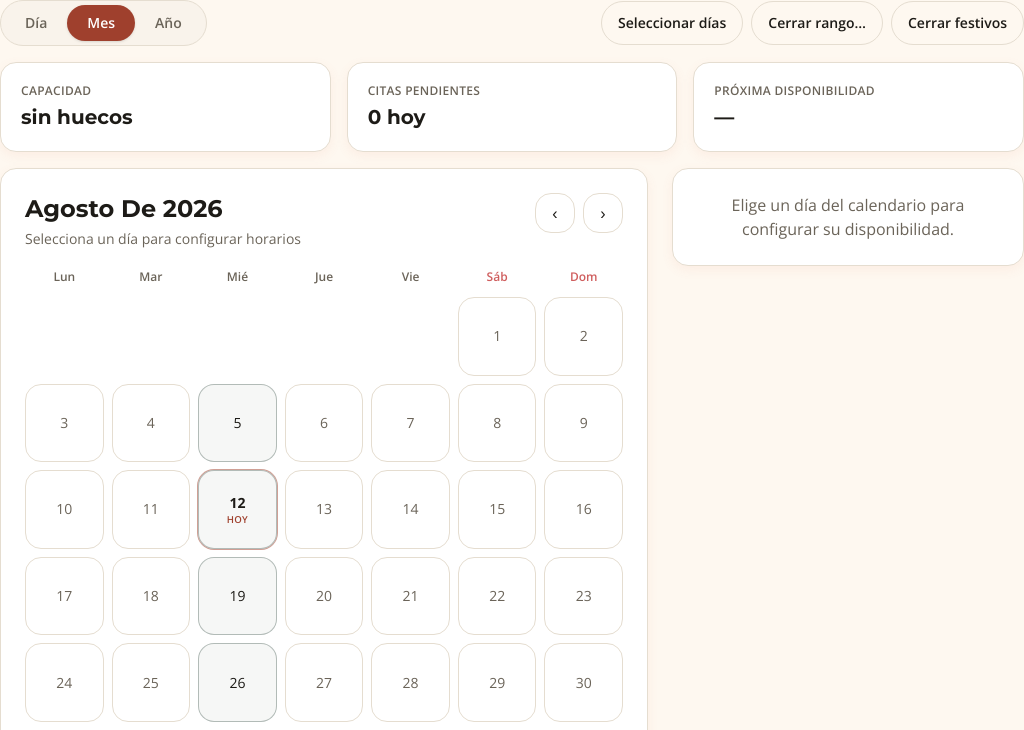
Test: AgendaCliente › al elegir un miércoles precarga el patrón semanal en el editor
This screenshot has width=1024, height=730.
Click the cell "12 Hoy" at (237,510), box [198,470,277,549]
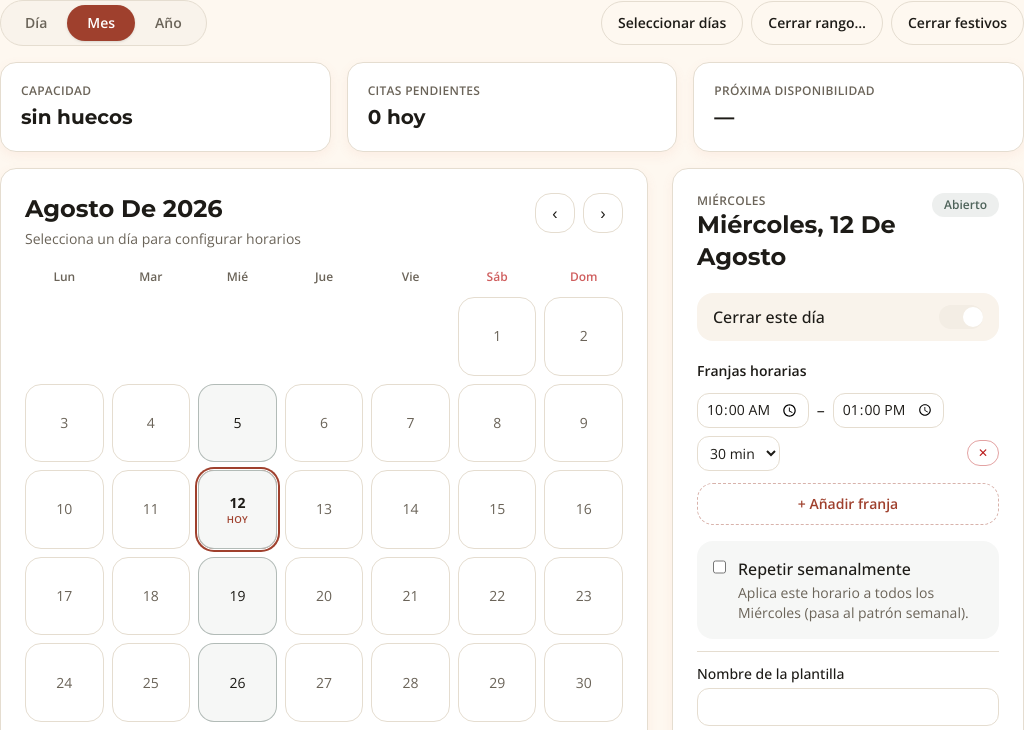
expect the heading "miércoles, 12 de agosto" is shown: met, box [697,209,920,273]
expect the time field showing "10:00" is shown: met, box [697,393,809,428]
